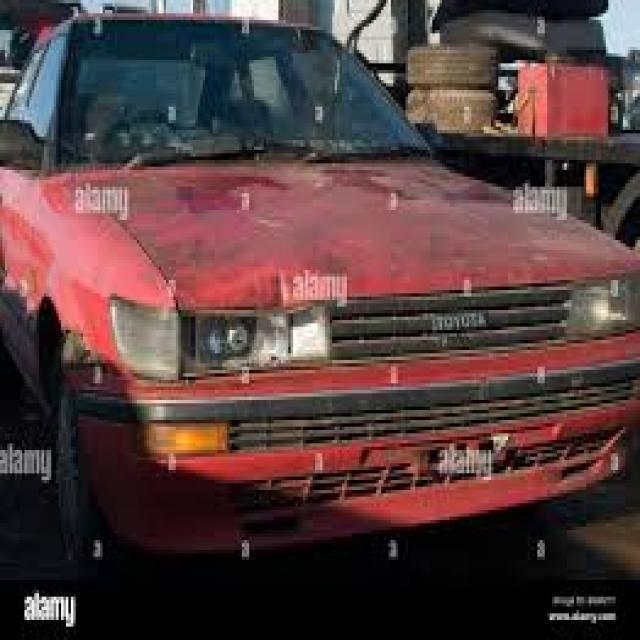damaged-head-light: (107, 298, 320, 375)
